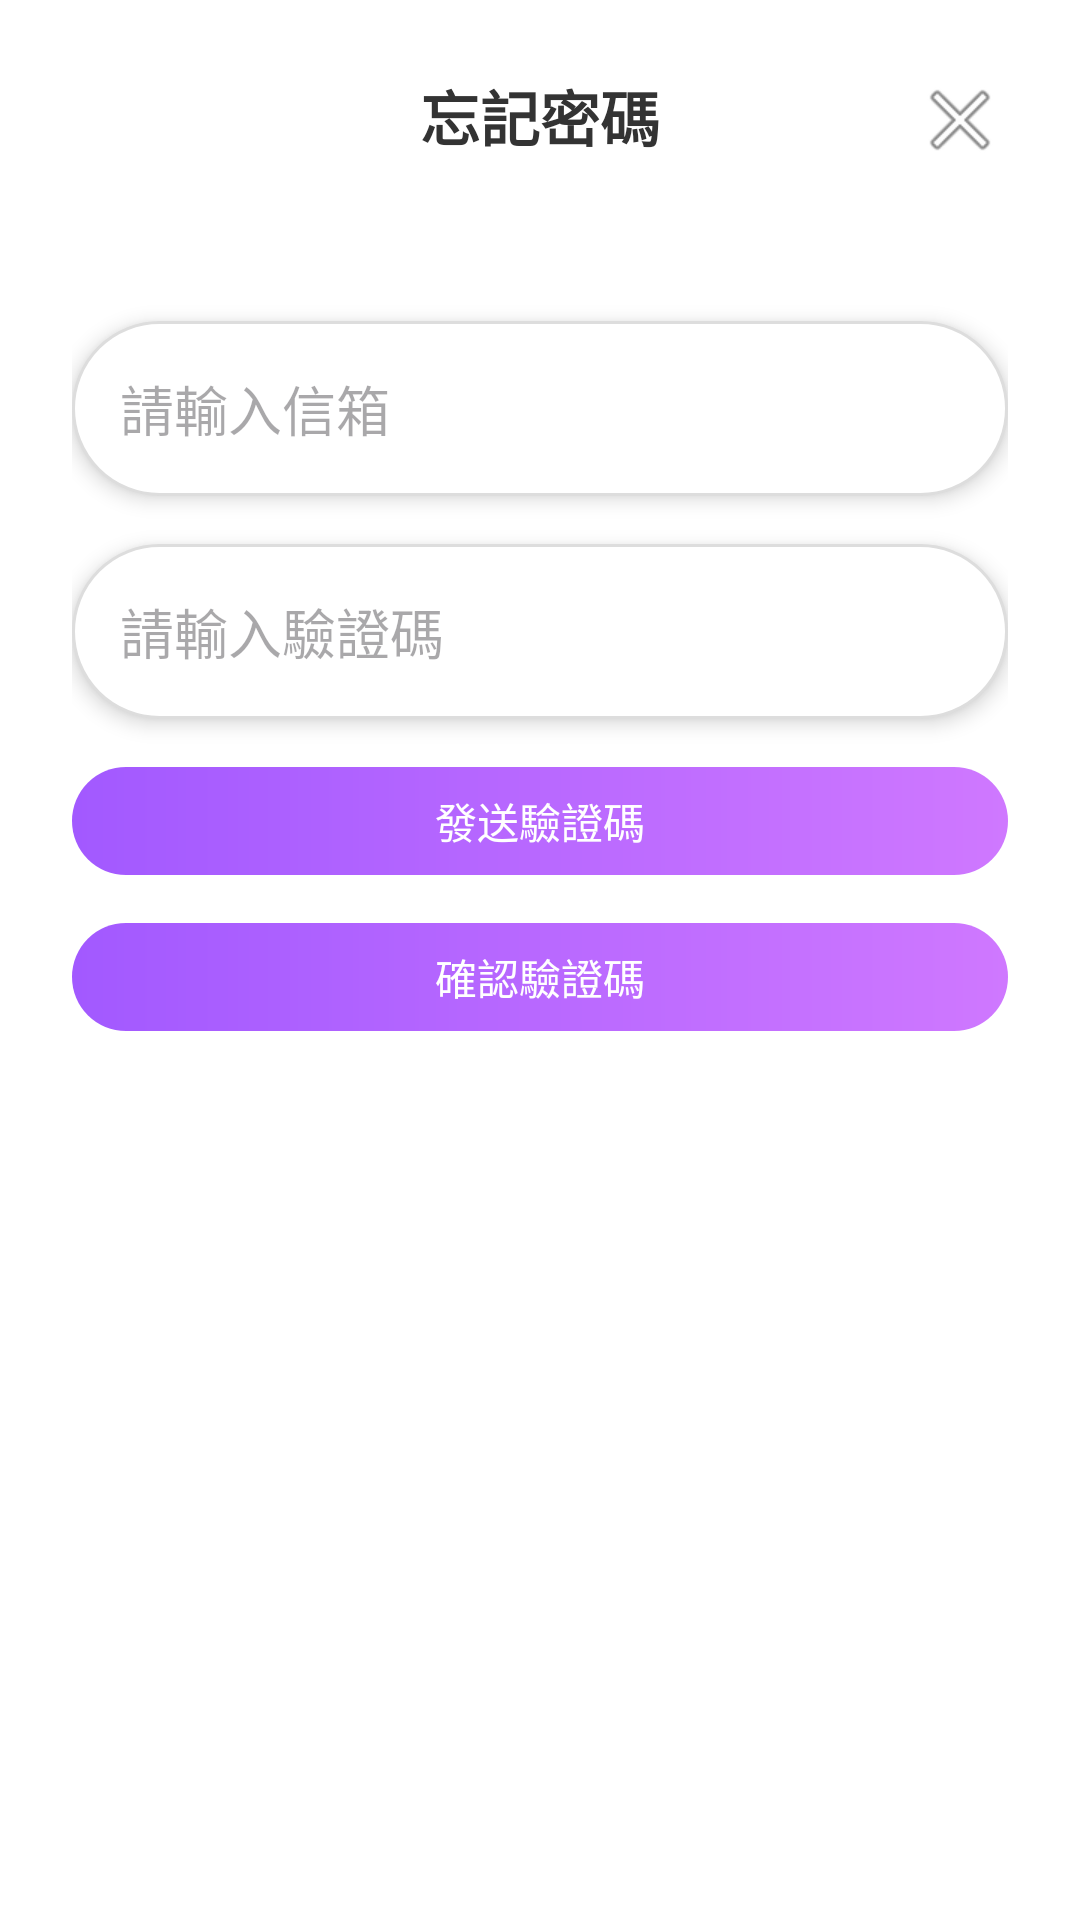

Icon bounding boxes for this 1080 x 1920 phone screenshot, format (x1, y1, x2, y2):
關閉: (930, 90, 990, 150)
